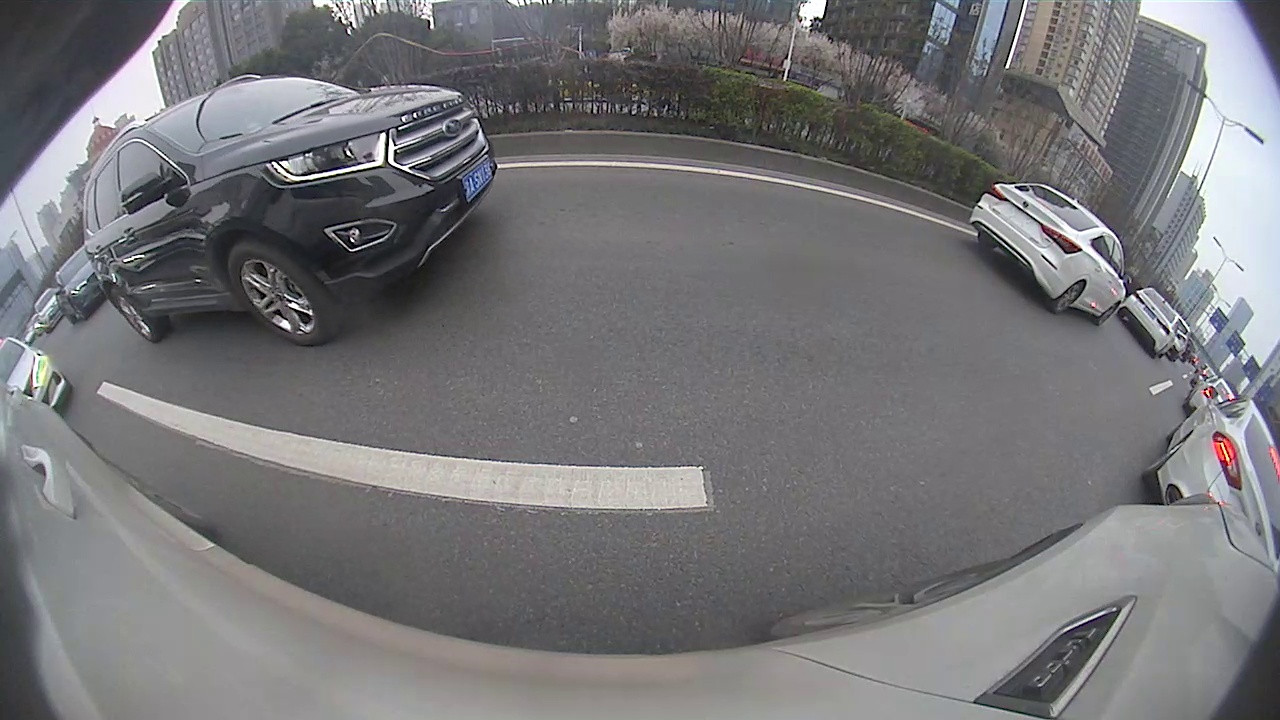car: (82, 73, 499, 348), (1138, 384, 1278, 573), (968, 183, 1133, 328), (1115, 285, 1181, 360), (53, 247, 106, 326)
front: (225, 245, 329, 342)
rear: (111, 287, 157, 343), (1053, 282, 1086, 314)
